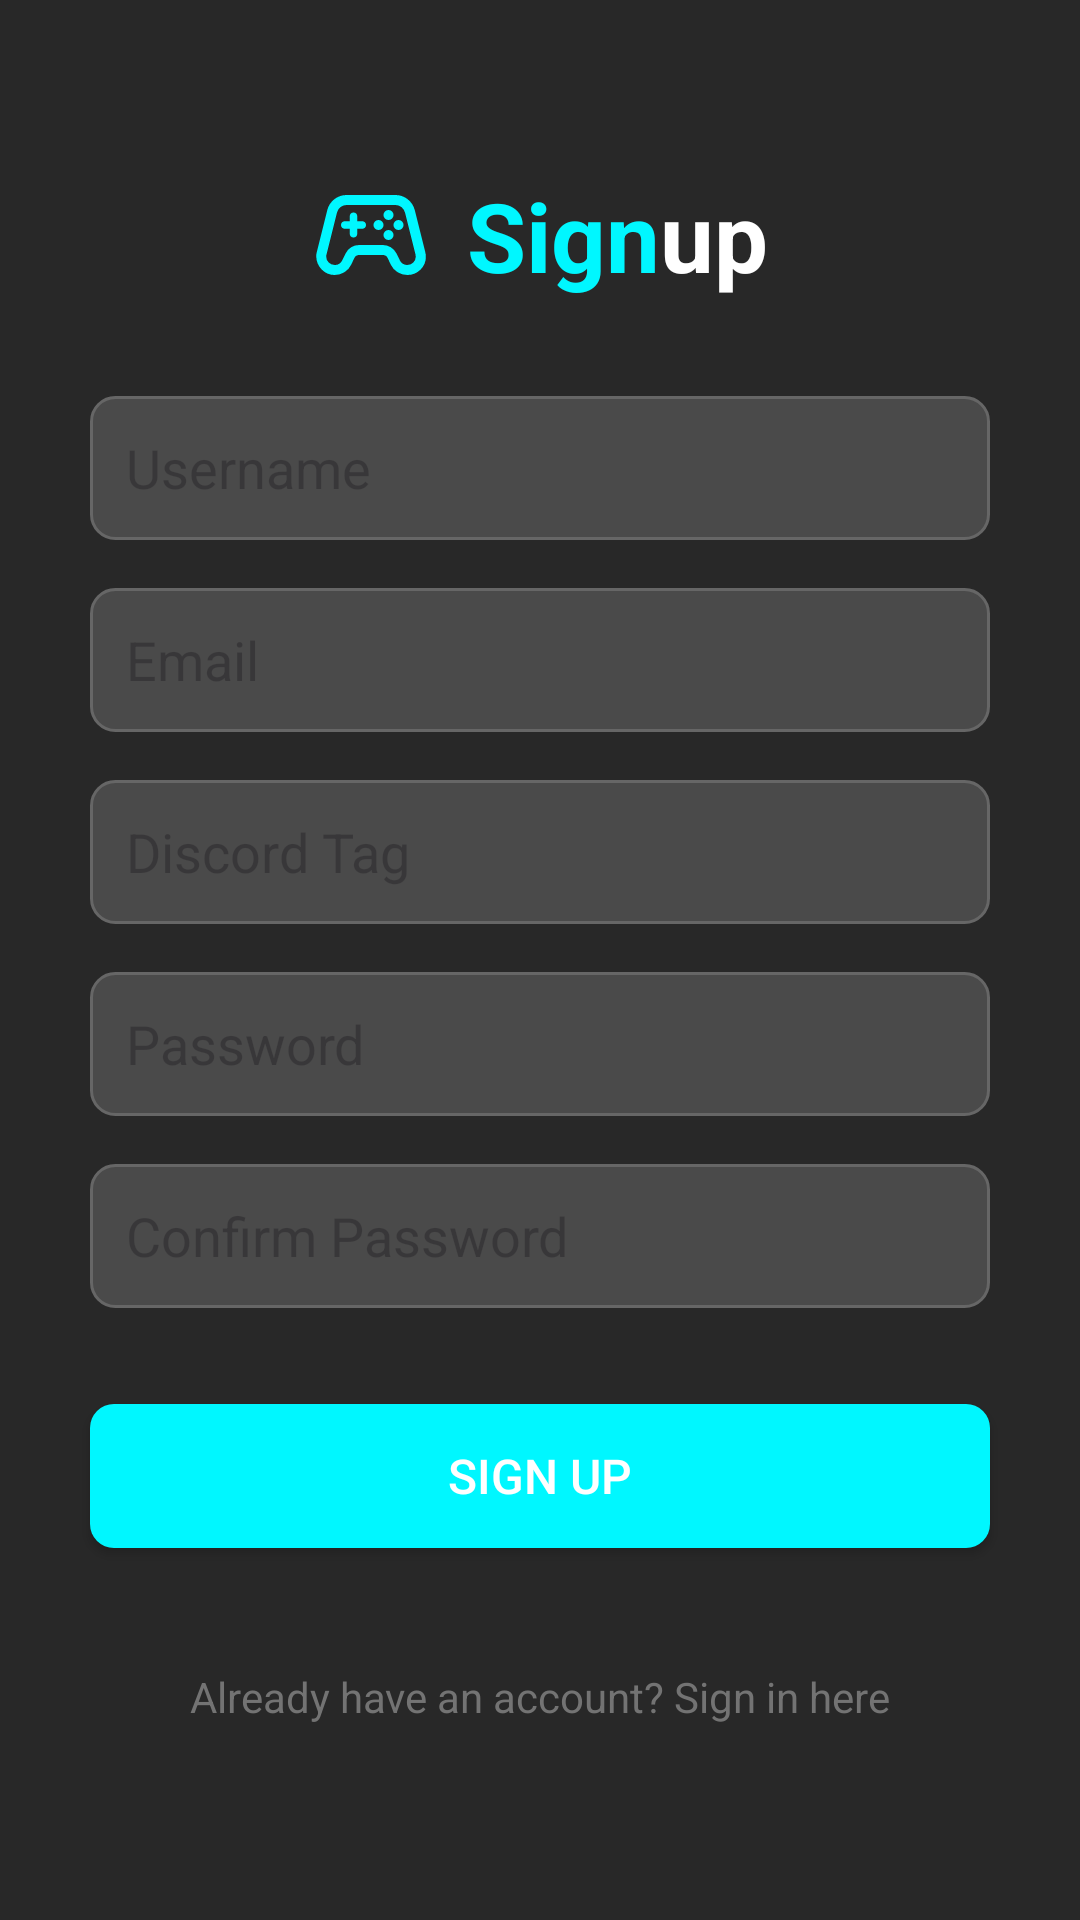

Point at icon controls on the screen. Image size 1080 × 1920, points as (x,y).
Game Controller: (371,235)
